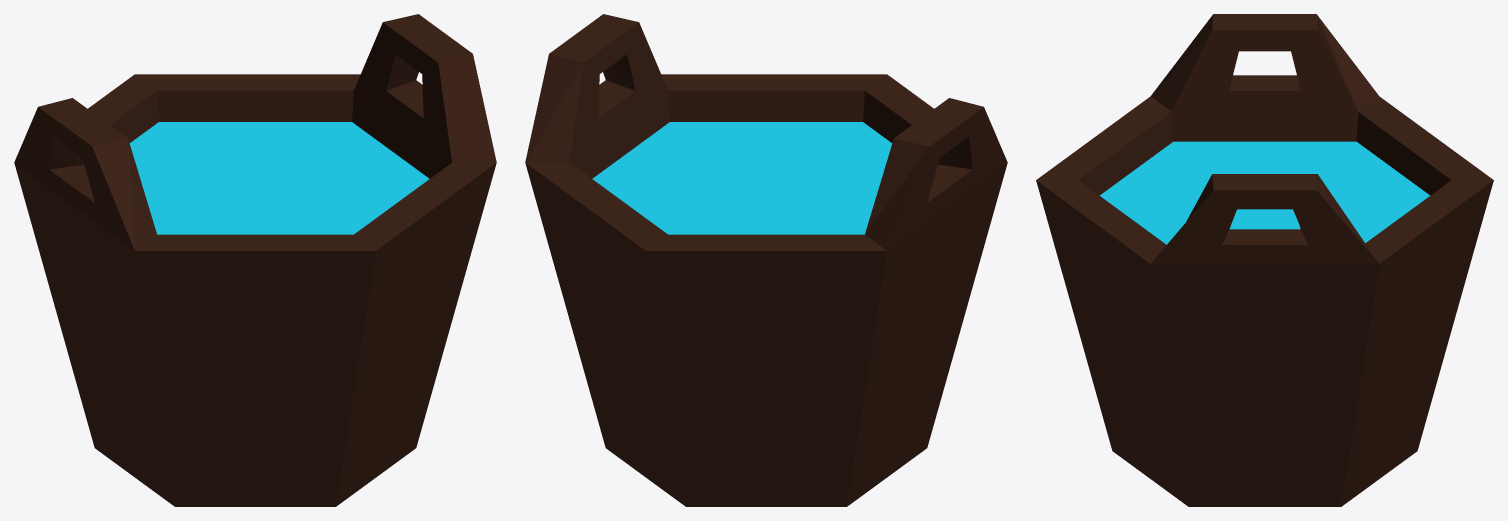
Rendered from cubo.FBX.
The picture shows the model from 3 angles, left to right: view 1: azimuth 30°, elevation 25°; view 2: azimuth 150°, elevation 25°; view 3: azimuth 270°, elevation 25°; orthographic projection. The views are drawn at different scales.
Visible parts, largest first — view 1: cubo; view 2: cubo; view 3: cubo.
Part boxes in pixels (x1,y1,x2,y2): cubo: (14,14,496,506); cubo: (525,14,1007,506); cubo: (1036,14,1493,506).
Bounding box in the file's own units: 20.81 × 19.22 × 22.85.
